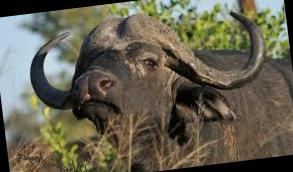Buffalo: (0, 2, 293, 172)
